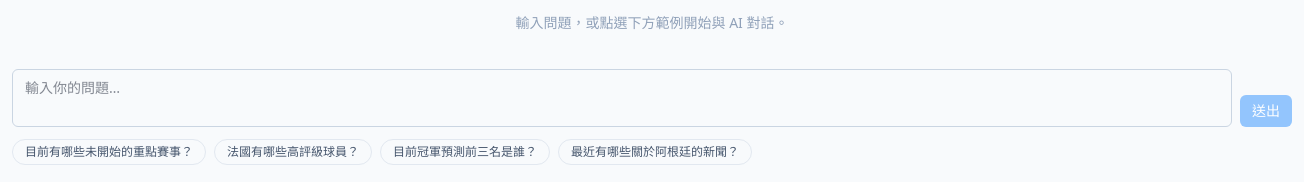
Scenario: GeneralFloatingChat › fills the input when an example prompt is clicked
The image size is (1304, 182).
What coordinates should you click on to do the following:
click the button "目前有哪些未開始的重點賽事？"
I would click on:
 (109, 152)
Its box is [12,139,206,165].
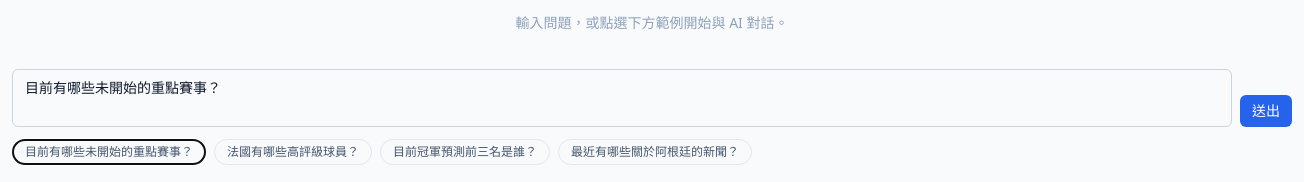
Expected: the text box named "輸入問題" holds "目前有哪些未開始的重點賽事？", [12,69,1232,127]
